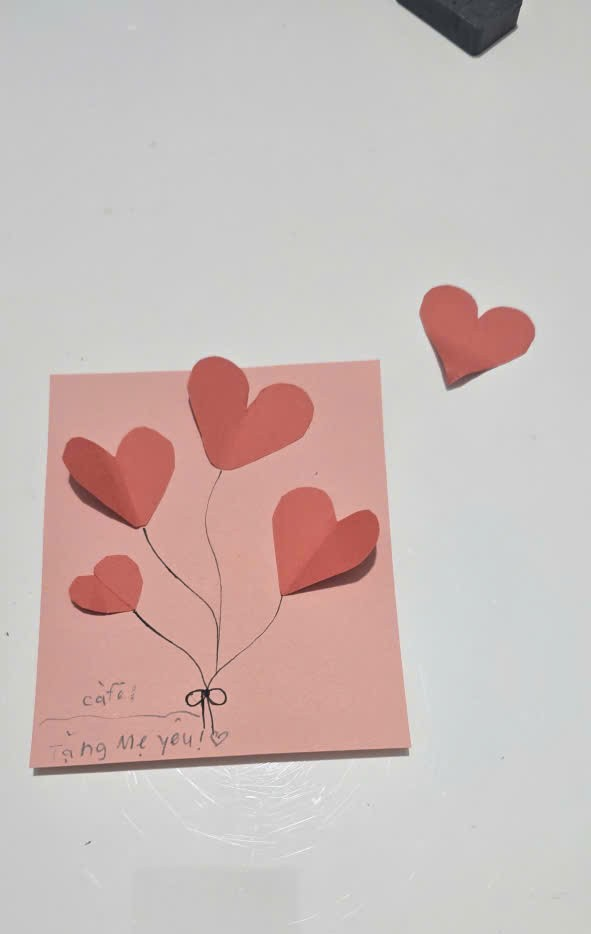paper: (25, 276, 540, 786)
